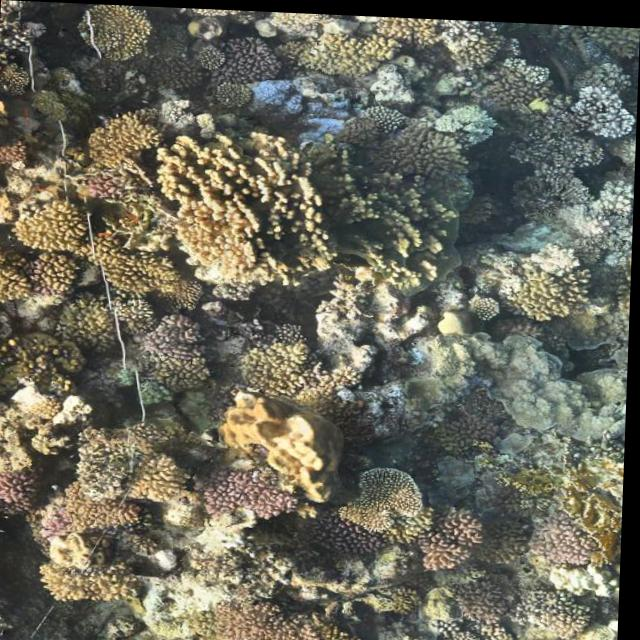Bleached Coral: (414, 330, 630, 431), (568, 170, 636, 251), (430, 89, 509, 149), (569, 72, 634, 141), (146, 84, 198, 138), (247, 72, 312, 113), (527, 235, 594, 272)
Healthy Coral: (172, 120, 346, 301), (348, 468, 496, 571), (244, 329, 342, 413), (20, 178, 86, 262), (102, 229, 176, 303), (216, 474, 305, 526)
